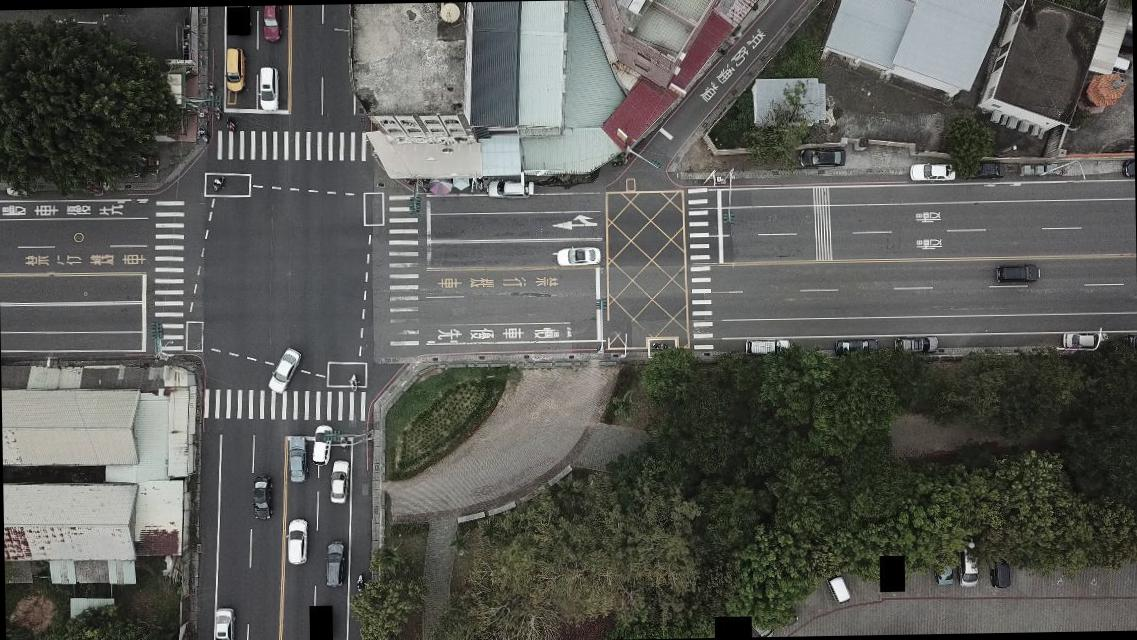vehicle: (268, 346, 304, 396), (796, 145, 845, 168), (959, 537, 981, 587), (324, 540, 346, 589), (994, 262, 1042, 284), (823, 566, 852, 602), (485, 178, 532, 200), (892, 334, 937, 356), (258, 66, 280, 111), (225, 48, 247, 93), (989, 546, 1011, 590), (328, 460, 350, 503), (288, 519, 308, 566), (252, 474, 272, 520), (962, 161, 1008, 181), (910, 162, 956, 182), (262, 6, 286, 43), (288, 436, 307, 482), (744, 608, 774, 637), (744, 336, 792, 354), (557, 247, 601, 266), (213, 606, 237, 639), (312, 424, 330, 468), (1064, 332, 1110, 348), (934, 552, 953, 586), (834, 338, 879, 352)
